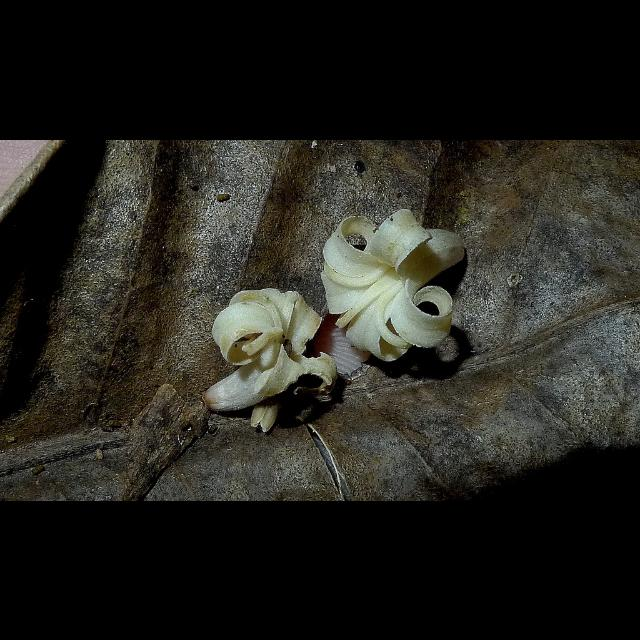Flower: (313, 194, 467, 368), (198, 290, 338, 434)
